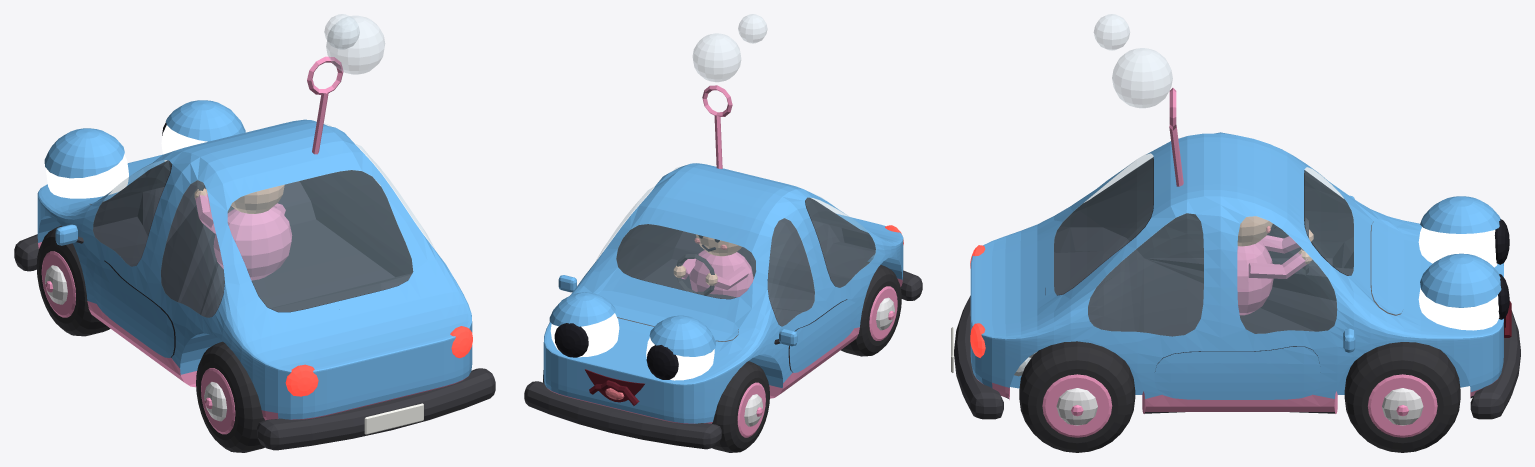
The model's file is car_bubbles.glb.
3 views of the same model, side by side, from view 1: azimuth 30°, elevation 25°; view 2: azimuth 150°, elevation 25°; view 3: azimuth 270°, elevation 25° (orthographic). The views are drawn at different scales.
Parts seen in each view (by area): view 1: body, cabin, glass_r, glass_l, bumper_r, face_lids, driver, wheel_rl, extra_bubble, door_l, wheel_fl, light_f (+5 smaller); view 2: body, cabin, glass_f, glass_l, bumper_f, face_lids, driver, extra_bubble, wheel_fl, wheel_rl, door_l, hood (+7 smaller); view 3: body, cabin, glass_r_side, wheel_rr, wheel_fr, door_r, glass_r, face_lids, extra_bubble, driver, light_f, glass_f (+6 smaller).
Boxes of the visible parts, x1,y1,x2,y2 form: body: [37, 119, 472, 420]; cabin: [93, 160, 413, 317]; glass_r: [228, 170, 412, 311]; glass_l: [93, 160, 224, 317]; bumper_r: [257, 368, 495, 450]; face_lids: [44, 100, 245, 178]; driver: [194, 182, 292, 280]; wheel_rl: [196, 341, 264, 452]; extra_bubble: [307, 14, 384, 154]; door_l: [93, 260, 174, 357]; wheel_fl: [36, 225, 110, 336]; light_f: [46, 125, 207, 198]; body: [543, 163, 903, 423]; cabin: [616, 197, 875, 326]; glass_f: [616, 224, 755, 298]; glass_l: [768, 197, 875, 326]; bumper_f: [524, 381, 721, 449]; face_lids: [549, 292, 715, 356]; driver: [673, 234, 753, 297]; extra_bubble: [693, 14, 767, 168]; wheel_fl: [712, 361, 769, 452]; wheel_rl: [841, 261, 901, 356]; door_l: [789, 299, 857, 372]; hood: [593, 290, 738, 341]; body: [970, 132, 1503, 413]; cabin: [1045, 157, 1353, 336]; glass_r_side: [1088, 213, 1336, 336]; wheel_rr: [1019, 341, 1135, 452]; wheel_fr: [1344, 342, 1460, 452]; door_r: [1154, 346, 1320, 399]; glass_r: [1054, 153, 1153, 294]; face_lids: [1420, 196, 1501, 307]; extra_bubble: [1094, 14, 1183, 186]; driver: [1237, 216, 1313, 315]; light_f: [1418, 227, 1499, 330]; glass_f: [1304, 167, 1353, 275].
Size of the model in its own units: 2.22 by 2.88 by 3.74.
